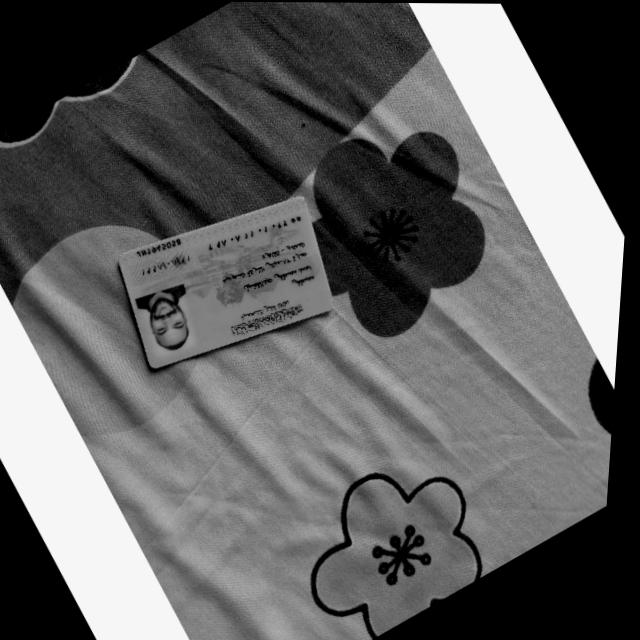id_card: (119, 197, 332, 369), (118, 198, 332, 369)
